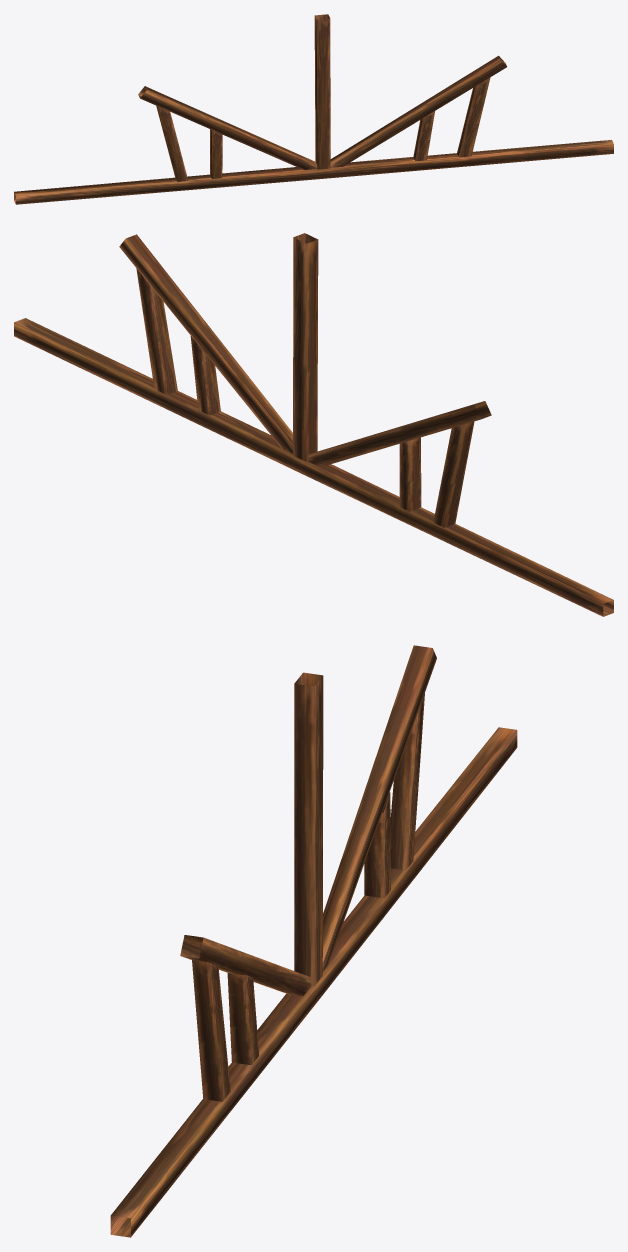
File: SWORDLIGHT20_JAILCEILBRACKET13.fbx
3 views of the same model, one above another, from view 1: azimuth 30°, elevation 25°; view 2: azimuth 150°, elevation 25°; view 3: azimuth 270°, elevation 25° (orthographic). The views are drawn at different scales.
Visible parts, largest first — view 1: SWORDLIGHT20_JAILCEILBRACKET13; view 2: SWORDLIGHT20_JAILCEILBRACKET13; view 3: SWORDLIGHT20_JAILCEILBRACKET13.
Boxes of the visible parts, x1,y1,x2,y2 form: SWORDLIGHT20_JAILCEILBRACKET13: (14,14,613,204); SWORDLIGHT20_JAILCEILBRACKET13: (14,233,613,616); SWORDLIGHT20_JAILCEILBRACKET13: (110,645,517,1237).
Size of the model in its own units: 164149 by 49666 by 57353.
1 material, 1 textured.
